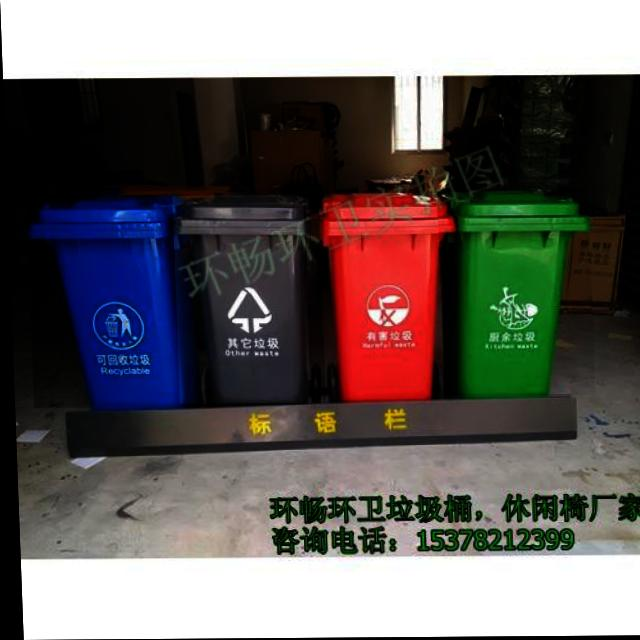garbage_bin: (25, 195, 195, 408), (436, 190, 593, 397), (317, 193, 457, 401), (171, 195, 308, 404)
